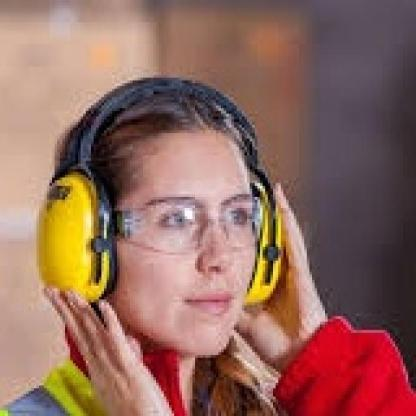oculos: (100, 191, 270, 254)
